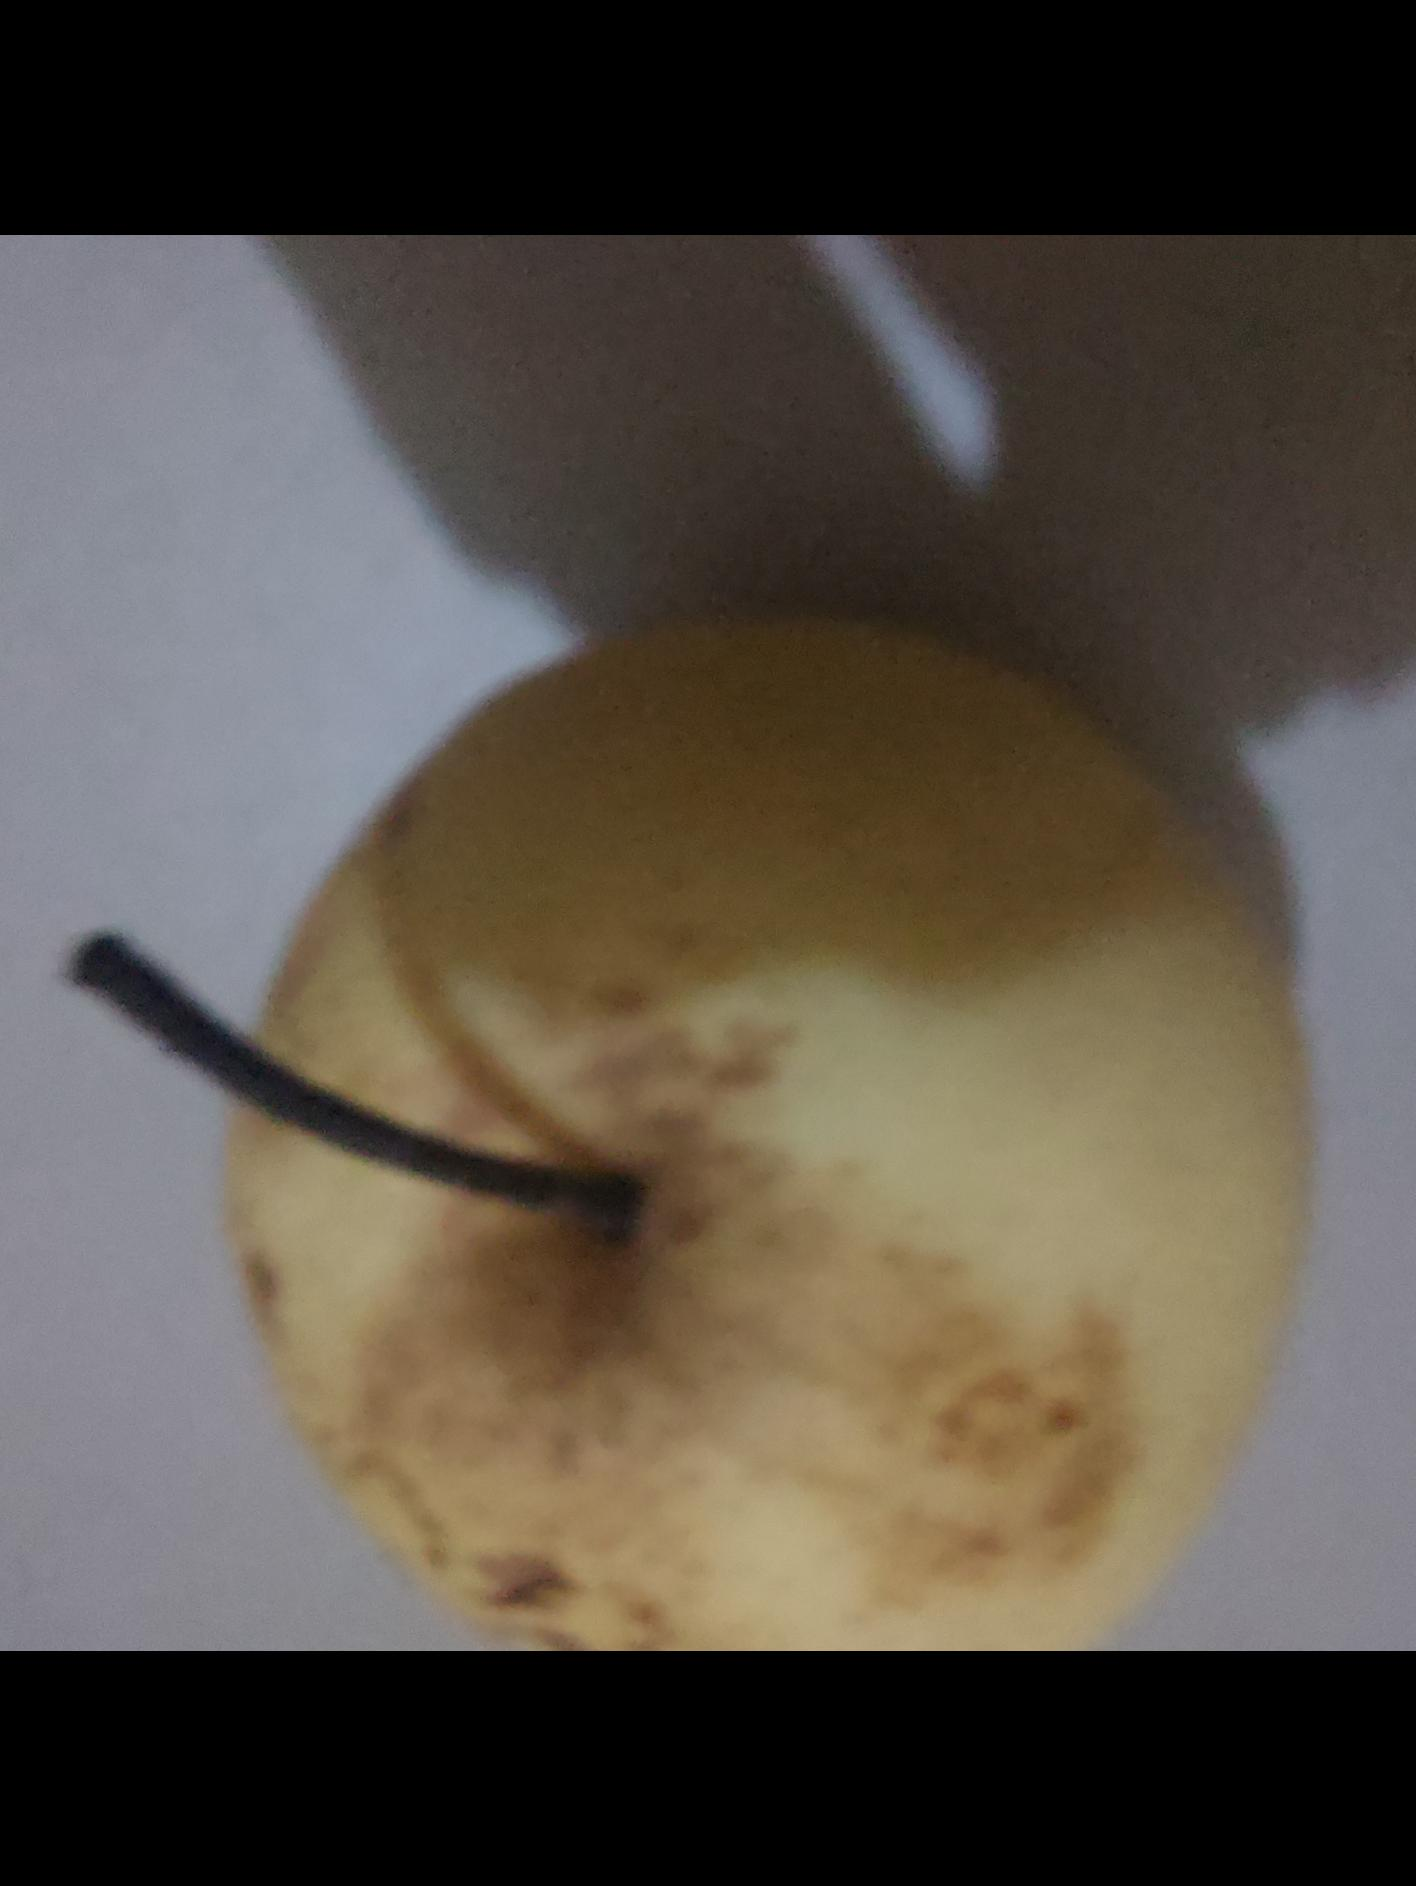Bad Pear: (222, 629, 1309, 1651)
